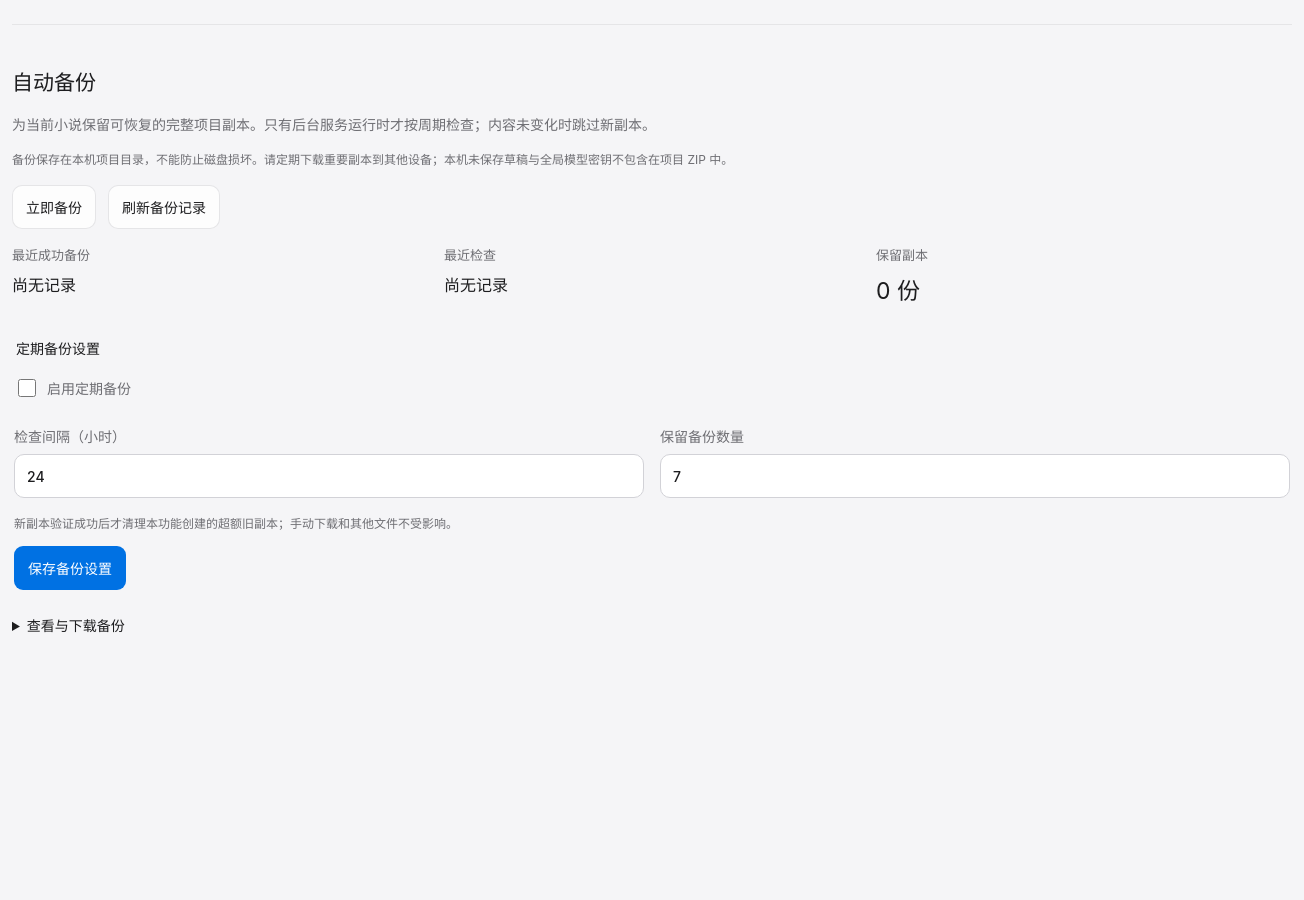
Test case: keeps committed POST state when an earlier GET arrives late
This screenshot has width=1304, height=900.
Expected: the checkbox labelled "启用定期备份" is shown, [18,379,36,397]
Click the button "刷新备份记录".
click(164, 207)  # box [108,185,220,229]
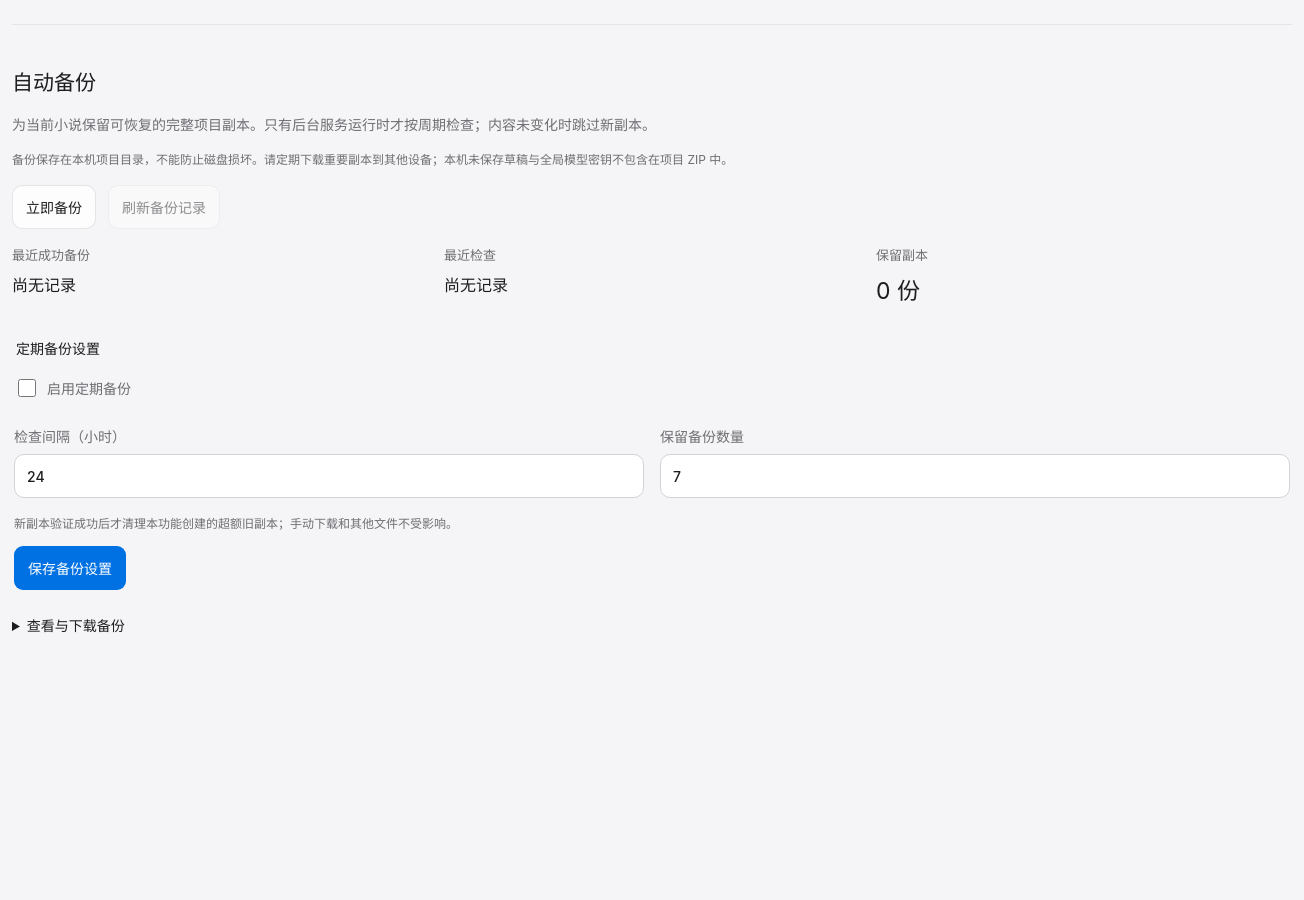
Click the button "立即备份".
click(54, 207)  # box [12,185,96,229]
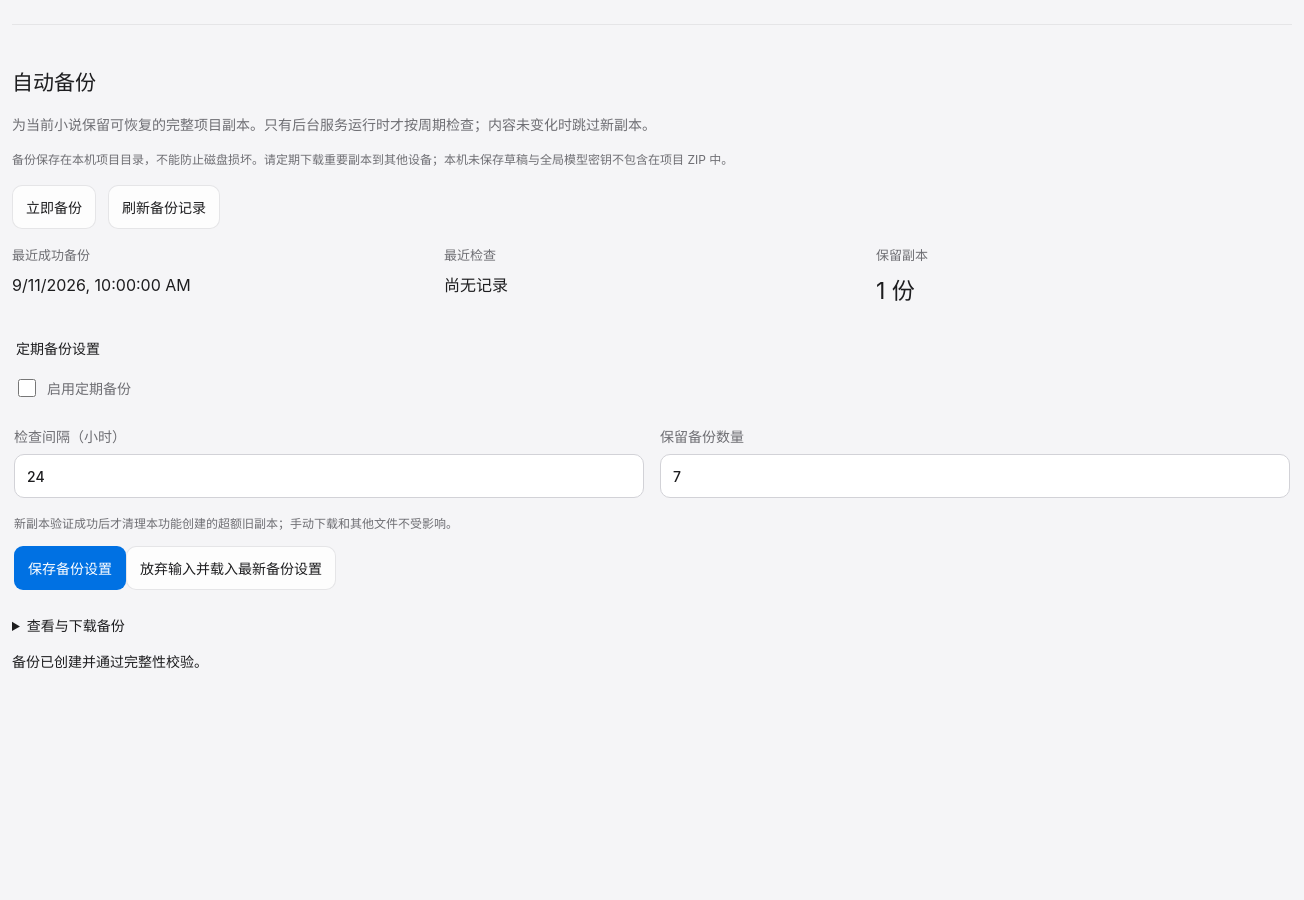
Now the text "备份已创建并通过完整性校验。" is shown, box [12,653,208,670]
Now the text "1 份" is shown, box [876,277,915,305]
